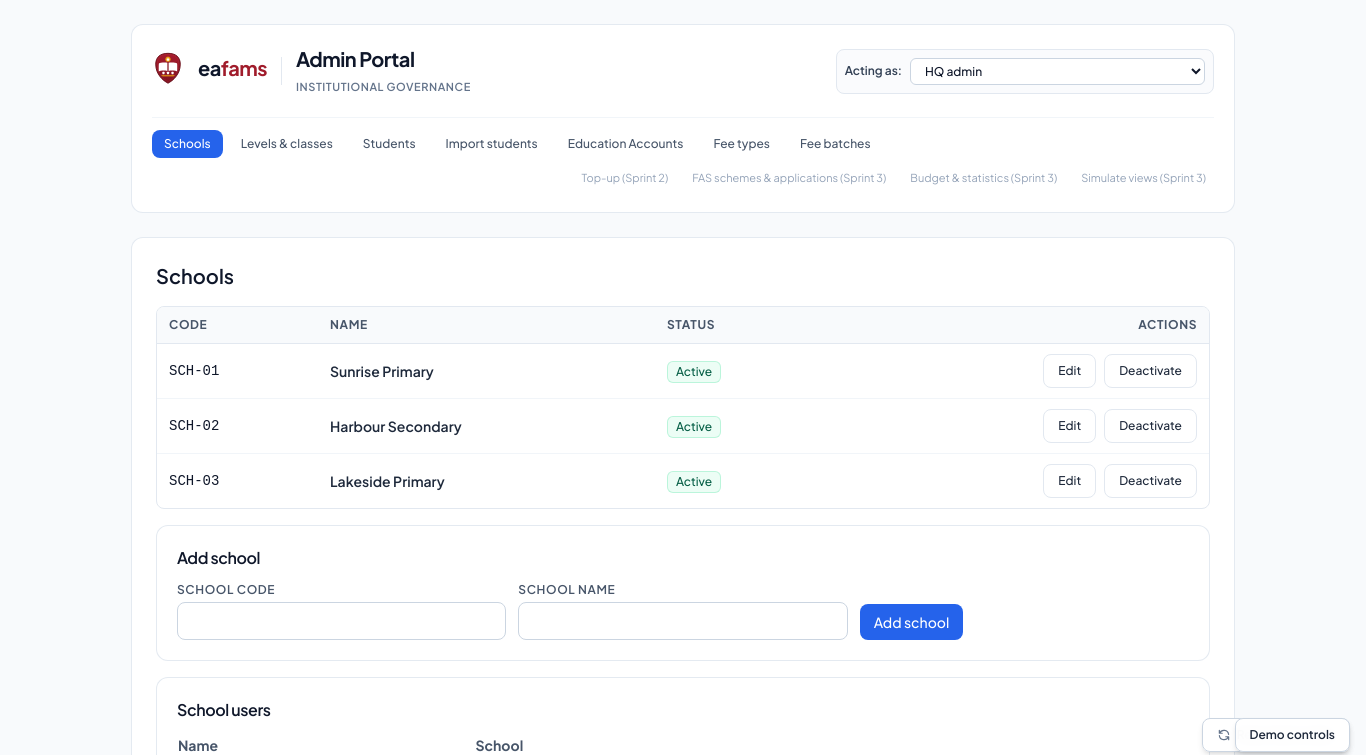
Test case: HQ adds a school
Type "SCH-09" into the field labelled "School code". click: {"x": 342, "y": 621}
box: top-left (177, 602), bottom-right (506, 640)
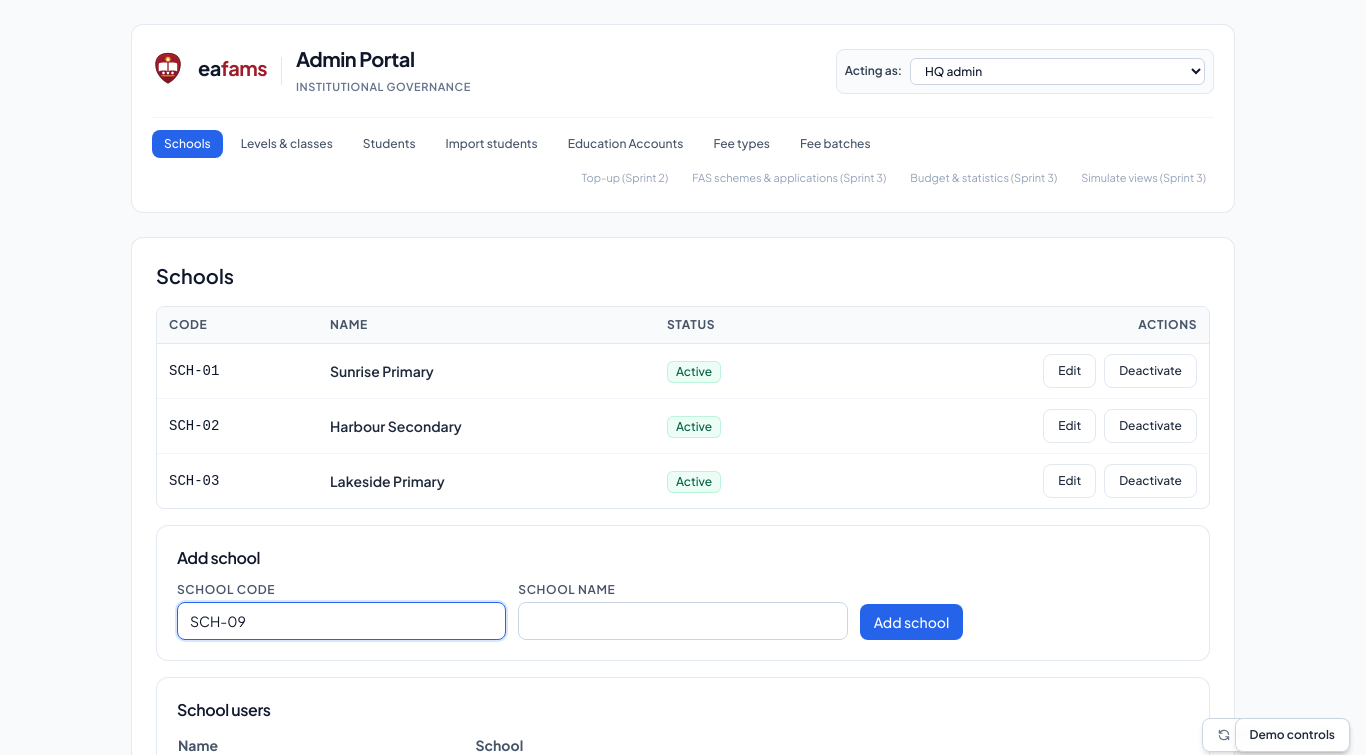
Type "Meadow Primary" into the field labelled "School name". click: {"x": 683, "y": 621}
box: top-left (518, 602), bottom-right (848, 640)
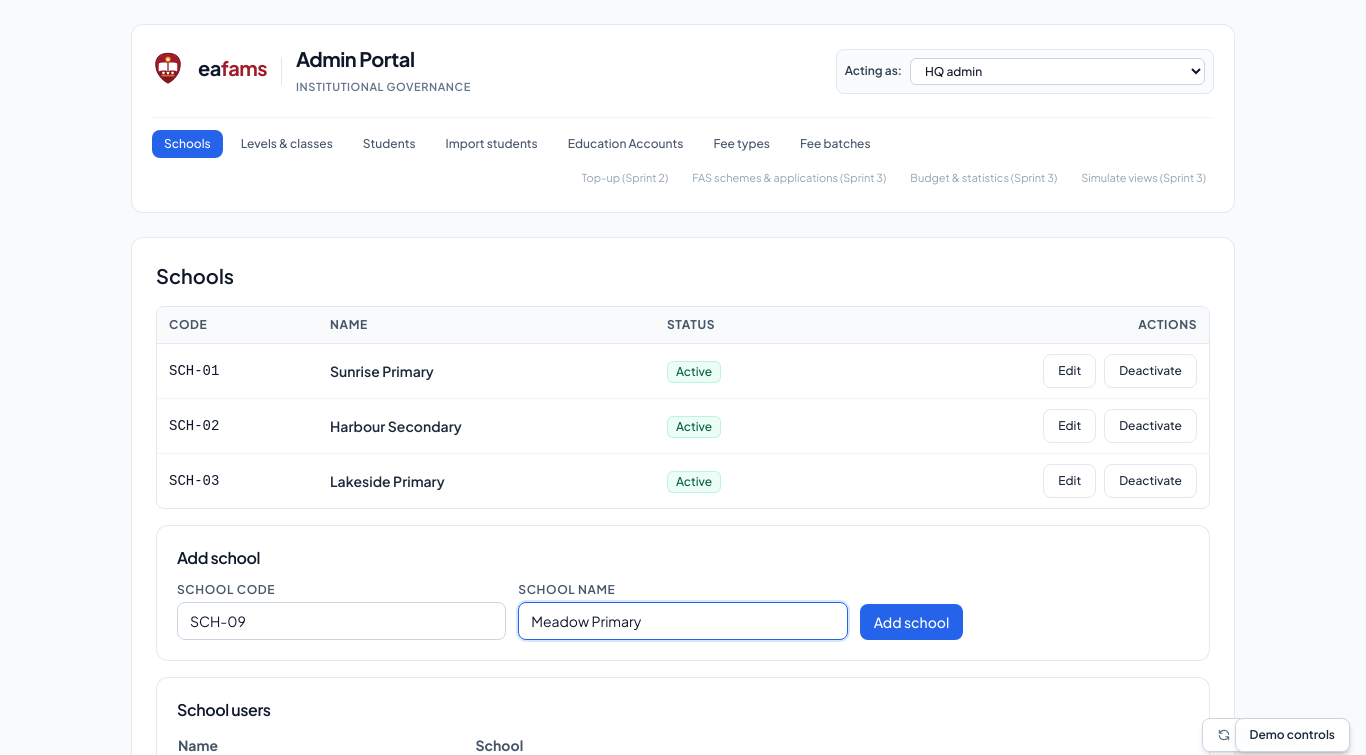
Click the button "Add school". click: {"x": 912, "y": 622}
box: top-left (860, 604), bottom-right (963, 640)
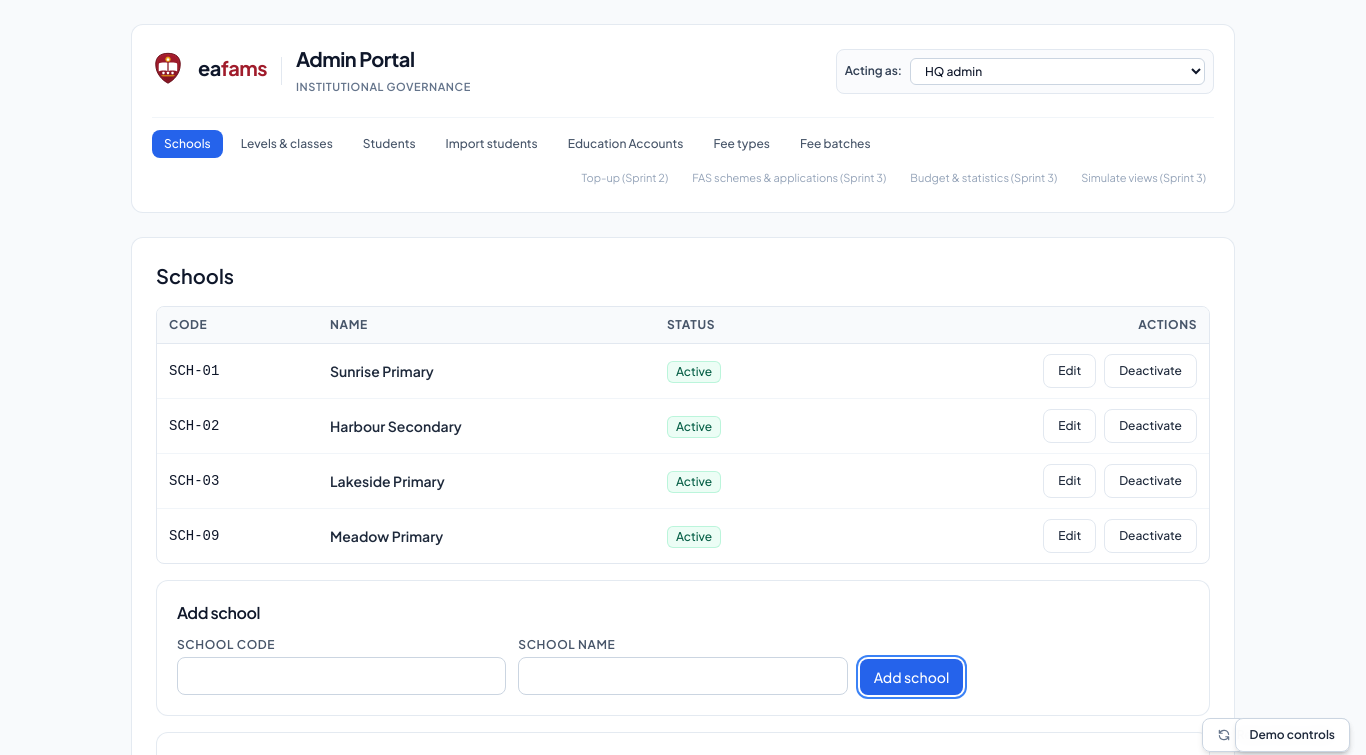
Expected: the text "Meadow Primary" is shown, top-left (318, 508), bottom-right (655, 563)
